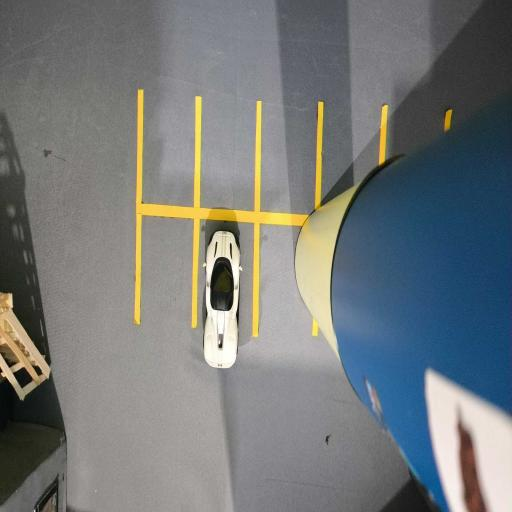toy_car: (0, 0, 510, 511), (203, 230, 241, 368)
